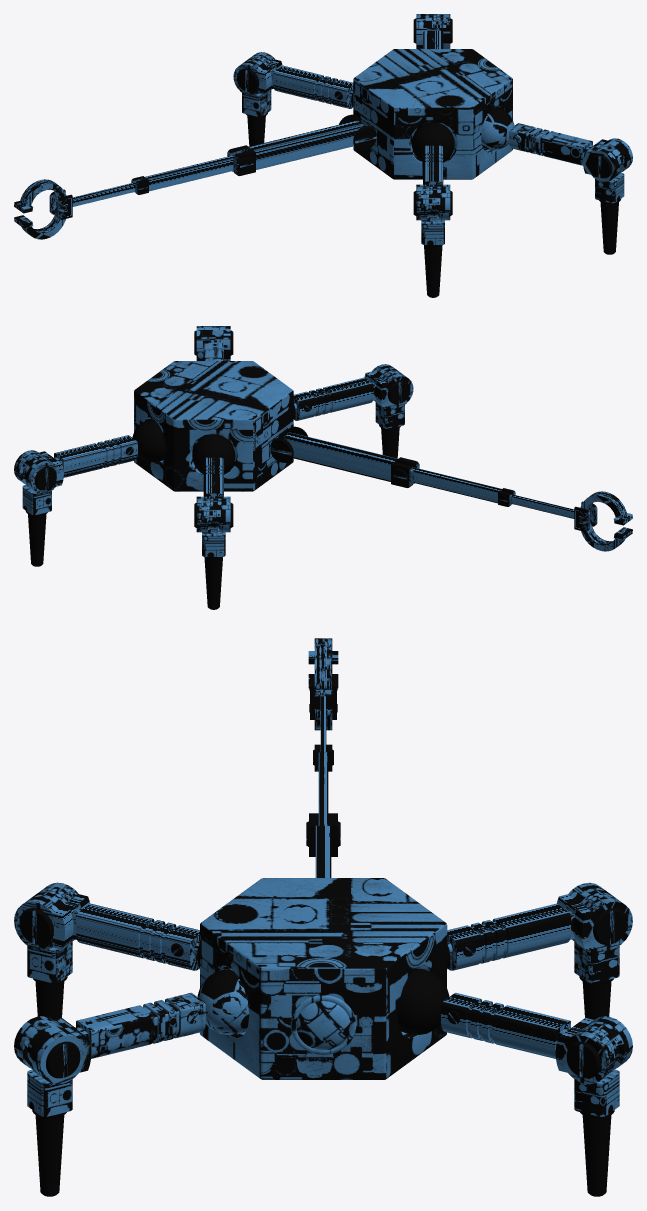
File: robot.fbx
3 renders of one model, top to bottom at view 1: azimuth 30°, elevation 25°; view 2: azimuth 150°, elevation 25°; view 3: azimuth 270°, elevation 25°, orthographic. The views are drawn at different scales.
Parts seen in each view (by area): view 1: Body.004; view 2: Body.004; view 3: Body.004.
Boxes of the visible parts, x1,y1,x2,y2 form: Body.004: [14, 14, 632, 297]; Body.004: [14, 326, 632, 609]; Body.004: [14, 638, 632, 1196].
Bounding box in the file's own units: 1159 × 279 × 767.
1 material, 1 textured.
